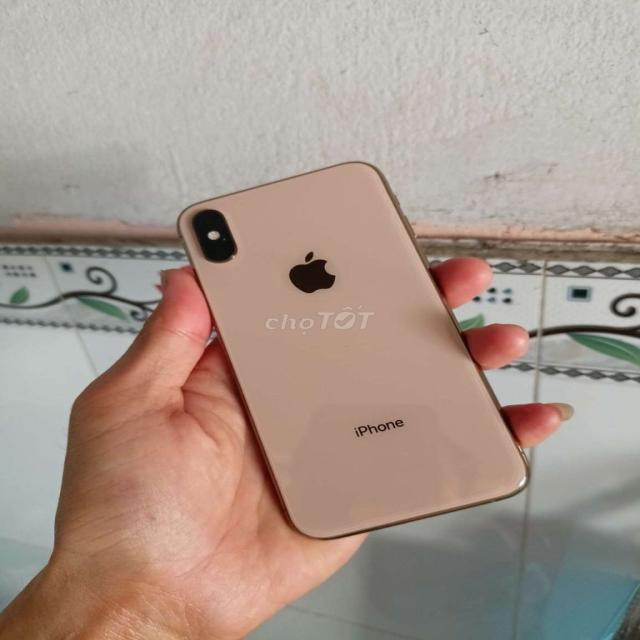gen_x_xs: (179, 162, 528, 538)
